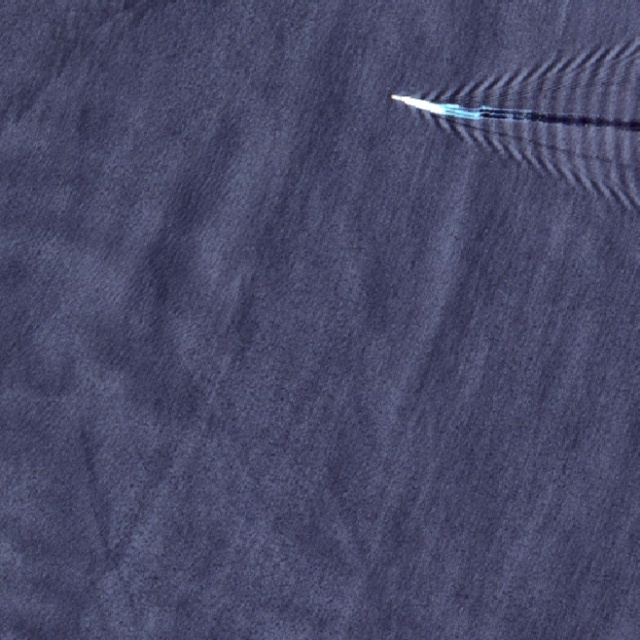wake: (379, 42, 629, 183)
